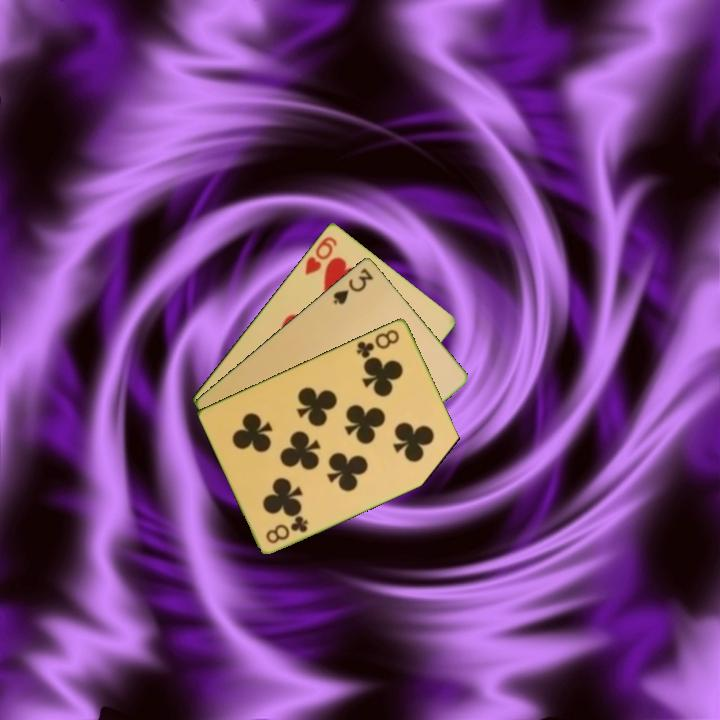3s: (330, 264, 376, 307)
6h: (301, 232, 340, 278)
8c: (353, 325, 402, 361), (262, 512, 311, 546)
